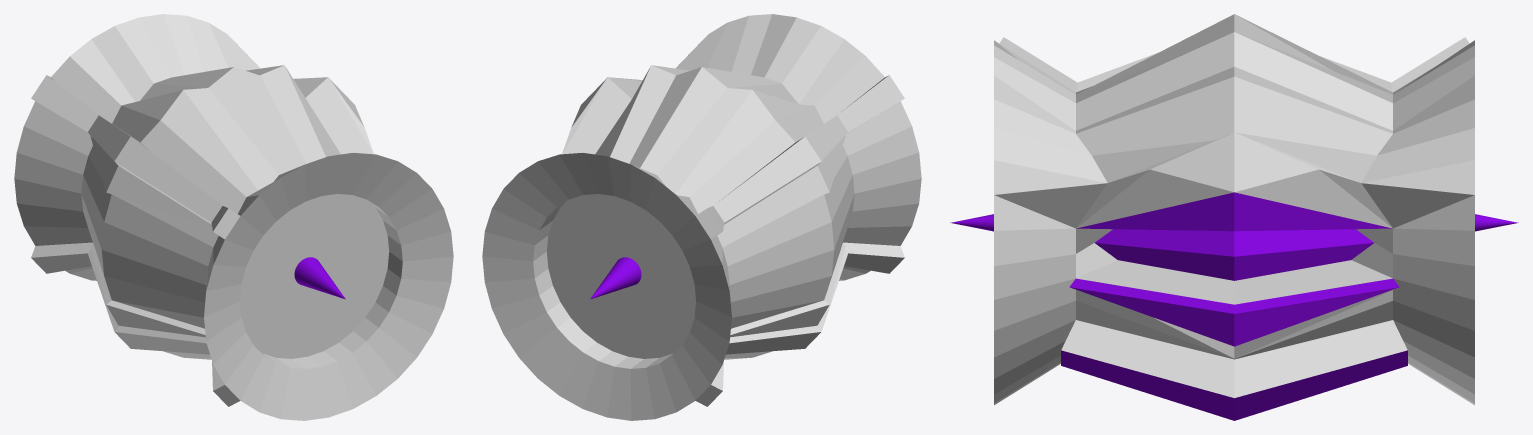
File: Chaser_ver1.fbx
3 views of the same model, side by side, from view 1: azimuth 30°, elevation 25°; view 2: azimuth 150°, elevation 25°; view 3: azimuth 270°, elevation 25° (orthographic). The views are drawn at different scales.
Parts seen in each view (by area): view 1: Cylinder; view 2: Cylinder; view 3: Cylinder.
Boxes of the visible parts, x1,y1,x2,y2 form: Cylinder: (14, 14, 453, 420); Cylinder: (482, 14, 921, 420); Cylinder: (950, 14, 1518, 420).
Bounding box in the file's own units: 223 × 221 × 311.
